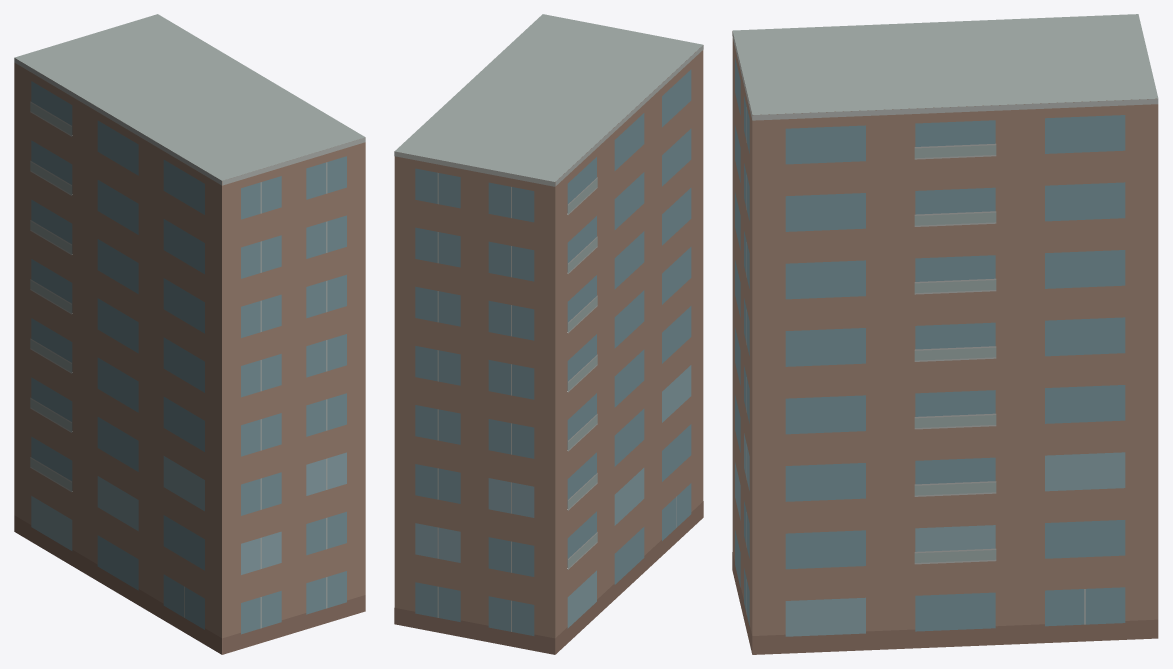
File: survey-upis-32631119.glb
3 views of the same model, side by side, from view 1: azimuth 30°, elevation 25°; view 2: azimuth 150°, elevation 25°; view 3: azimuth 270°, elevation 25° (orthographic). The views are drawn at different scales.
Visible parts, largest first — view 1: survey-upis-32631119.tmp; view 2: survey-upis-32631119.tmp; view 3: survey-upis-32631119.tmp.
Boxes of the visible parts, box(x1,y1,x2,y2) form: survey-upis-32631119.tmp: box(14, 14, 365, 654); survey-upis-32631119.tmp: box(394, 14, 703, 654); survey-upis-32631119.tmp: box(732, 14, 1158, 654).
Size of the model in its own units: 9.61 by 23.9 by 17.1.
